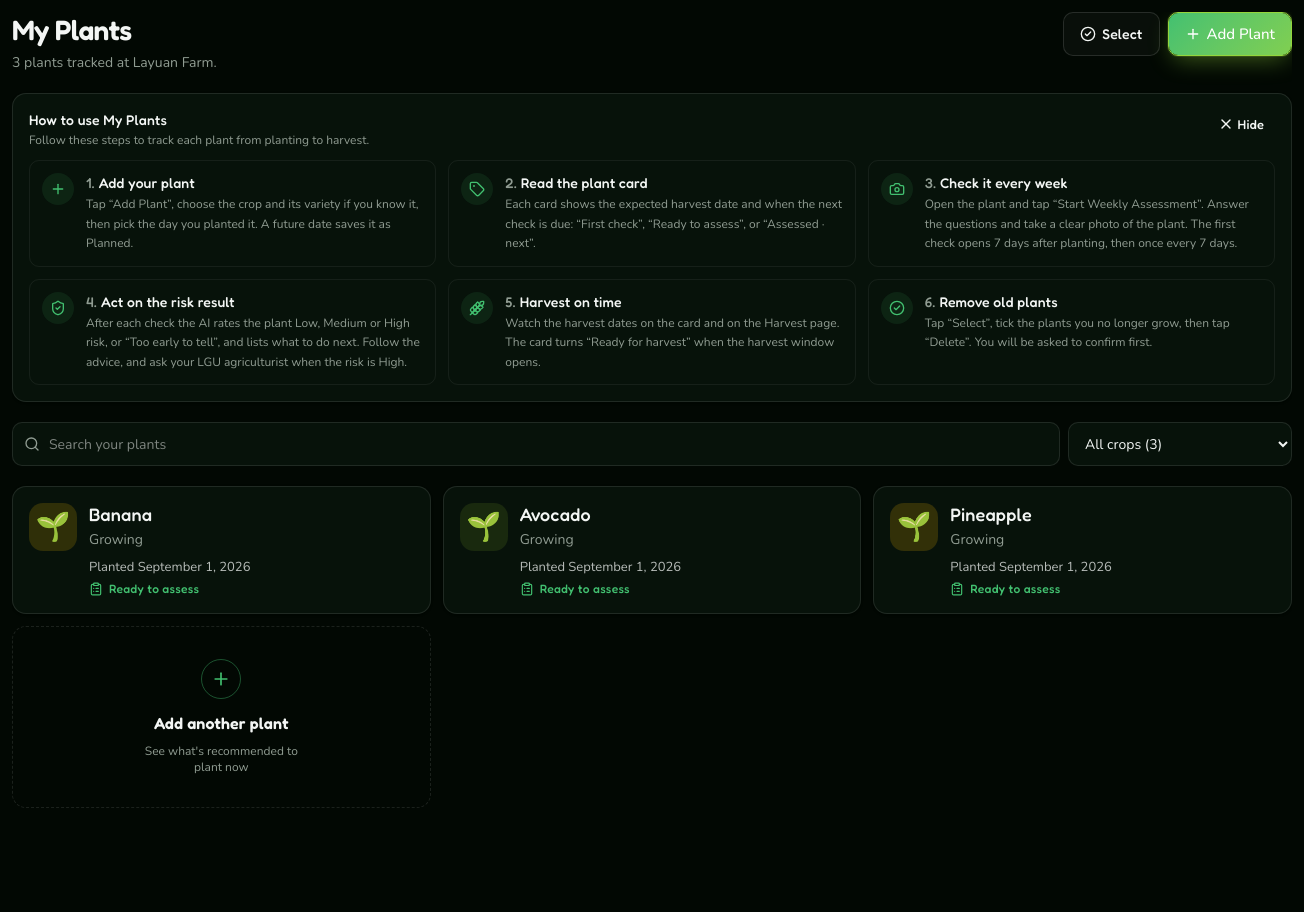
Test: My Plants › selects and clears everything at once
This screenshot has width=1304, height=912.
What coordinates should you click on to do the following:
click the button "Select"
I would click on:
 (1111, 34)
Its box is [1063,12,1160,56].
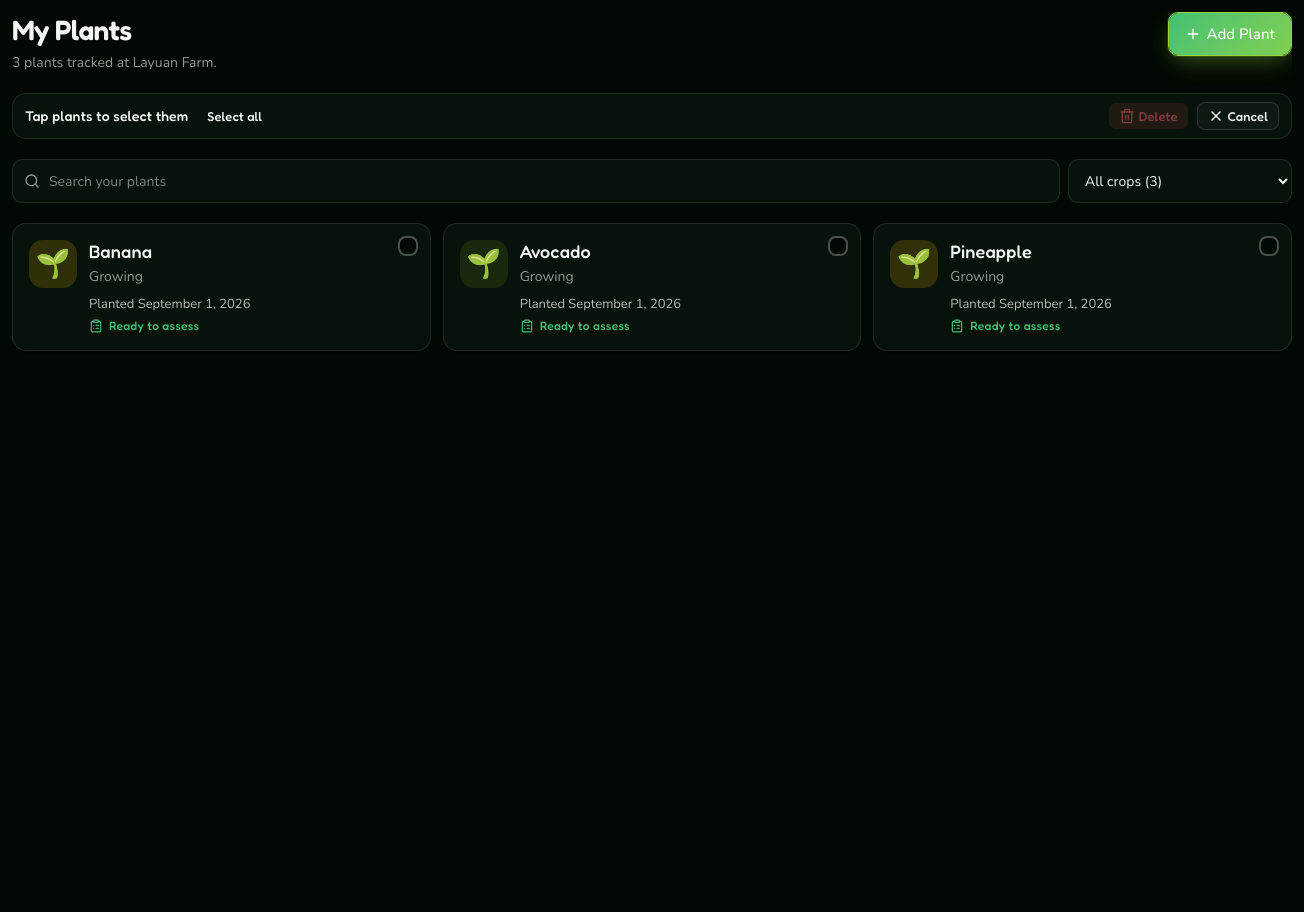
What coordinates should you click on to do the following:
click the button "Select all"
I would click on:
 (235, 116)
Its box is [196,102,273,130].
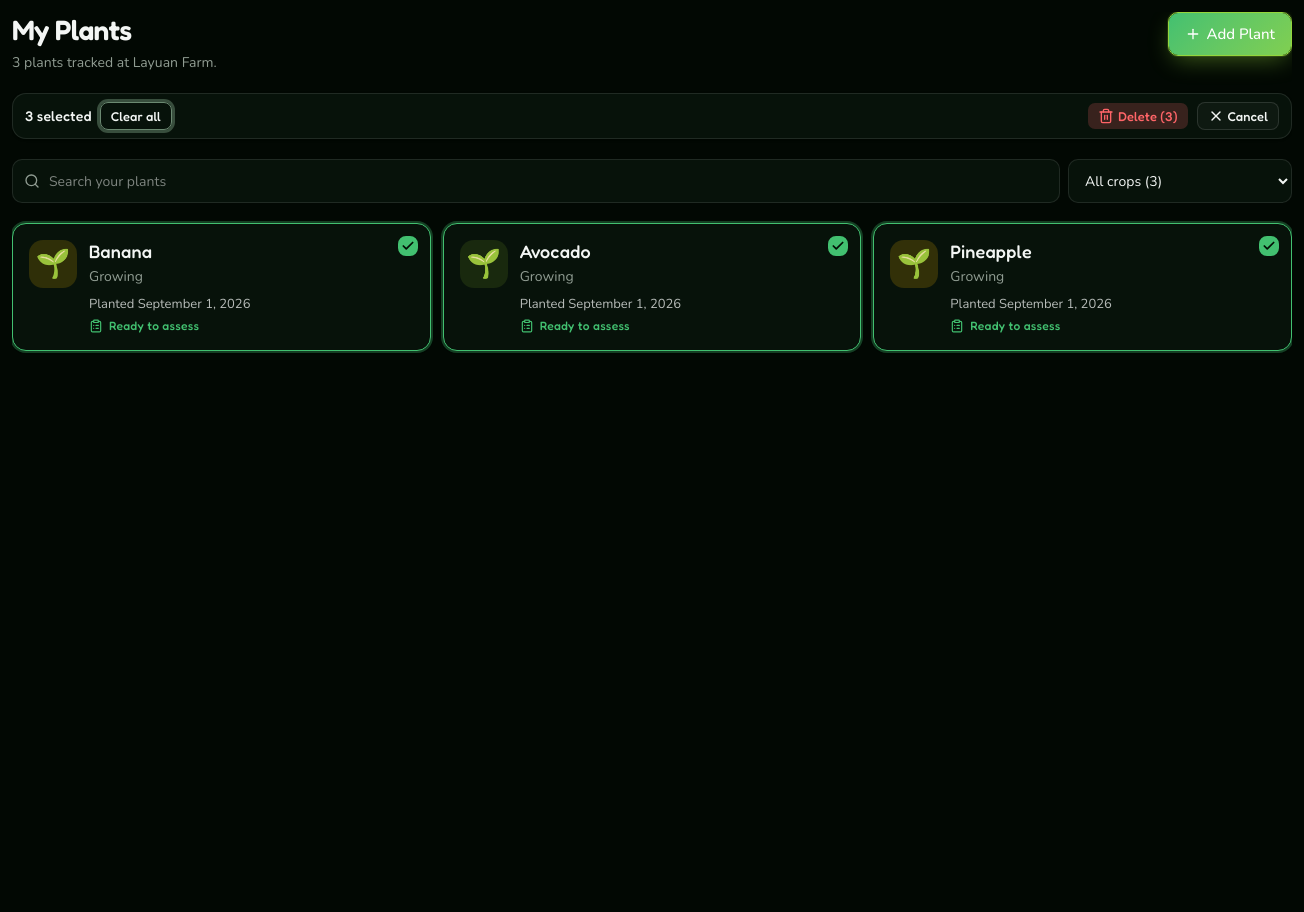
Check: the element showing "3 selected Clear all Delete (3) Cancel" is shown, box [12,93,1292,139]
What coordinates should you click on to do the following:
click the button "Clear all"
I would click on:
 (136, 116)
Its box is [100,102,172,130].
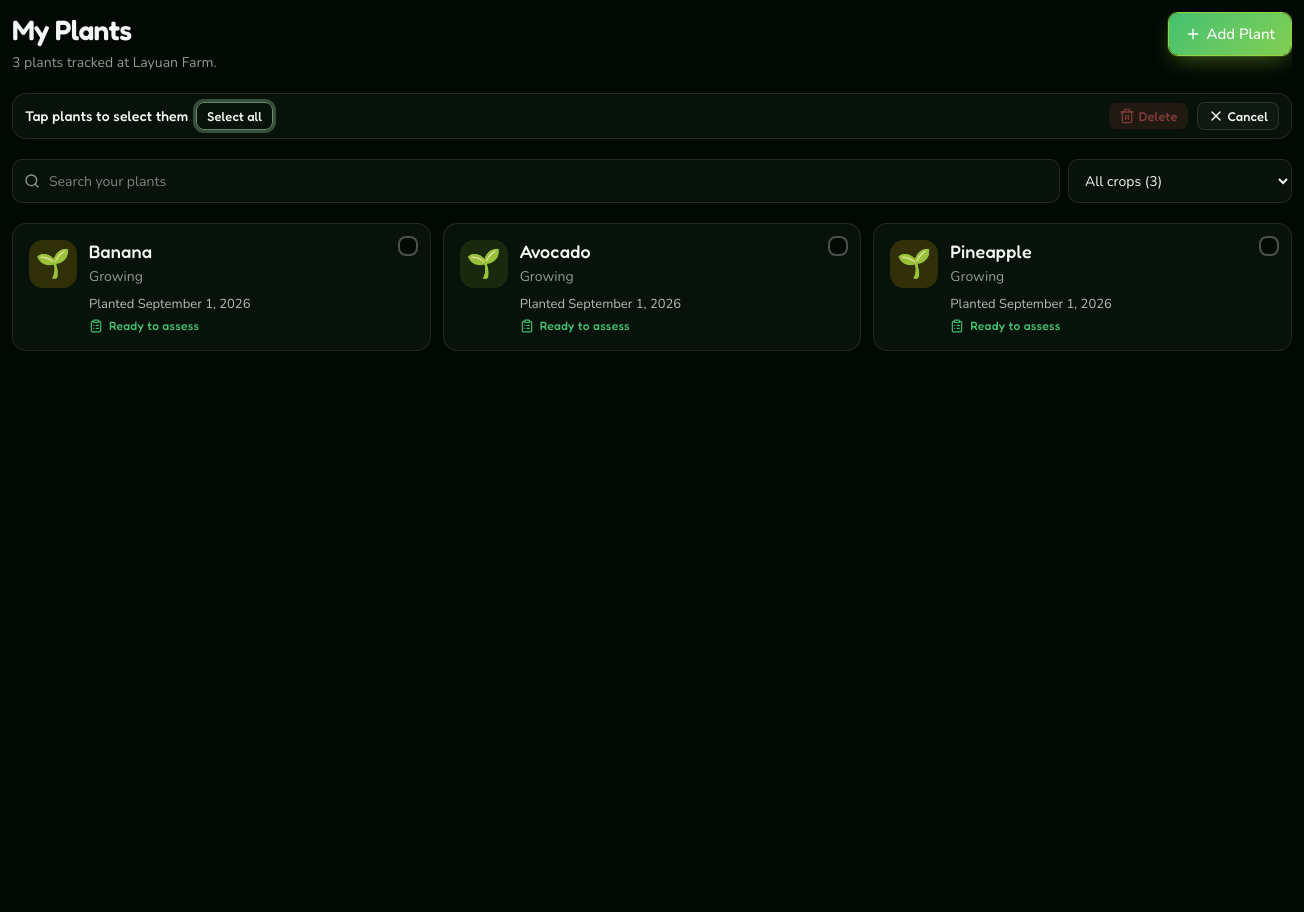
Check: the element showing "Tap plants to select them Select all Delete Cancel" is shown, box [12,93,1292,139]
